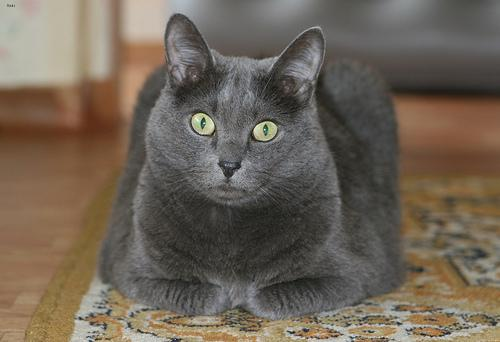cat-Russian_Blue: (148, 13, 324, 198)
